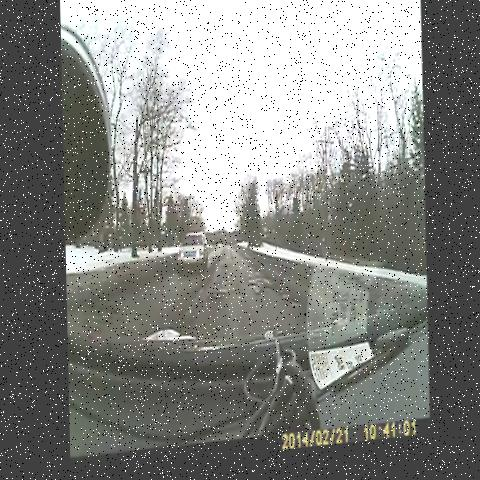pothole: (243, 262, 273, 313), (207, 281, 234, 316), (275, 294, 302, 326)
